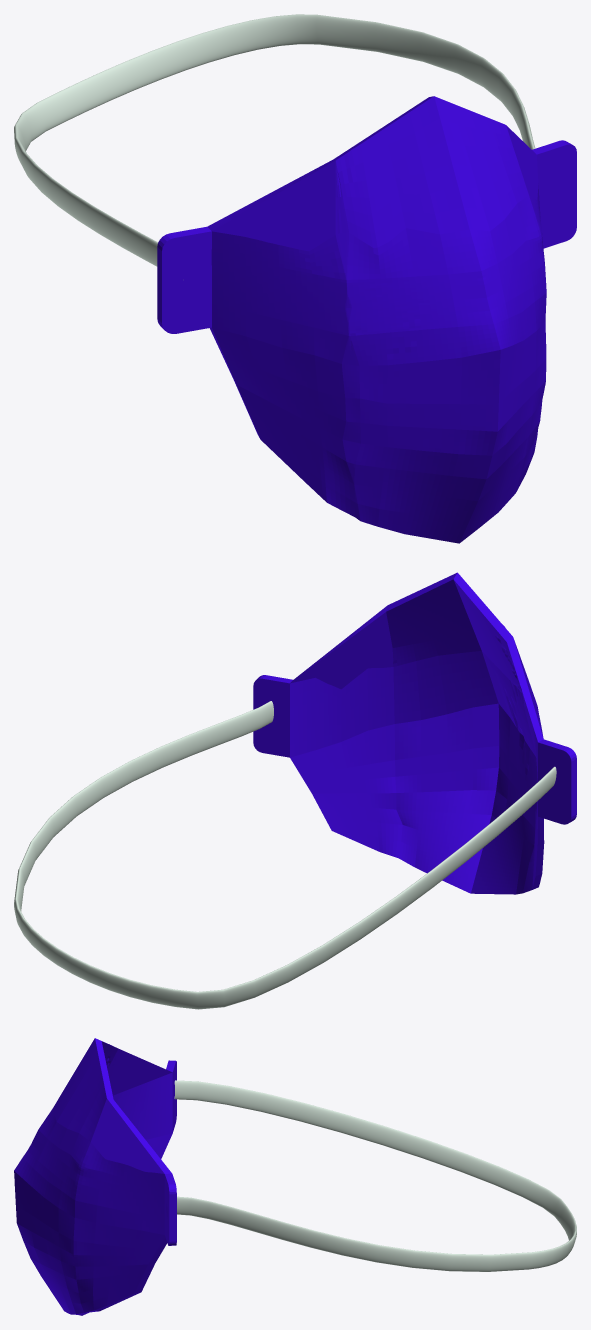
File: Mascara facial.fbx
3 renders of one model, top to bottom at view 1: azimuth 30°, elevation 25°; view 2: azimuth 150°, elevation 25°; view 3: azimuth 270°, elevation 25°, orthographic. The views are drawn at different scales.
Visible parts, largest first — view 1: Cube, Bézier - Curva; view 2: Cube, Bézier - Curva; view 3: Cube, Bézier - Curva.
Part boxes in pixels (x1,y1,x2,y2): Cube: (157,96,576,543); Bézier - Curva: (14,14,535,266); Cube: (253,572,576,894); Bézier - Curva: (14,701,556,1009); Cube: (14,1038,176,1315); Bézier - Curva: (174,1080,576,1271).
Size of the model in its own units: 466 by 389 by 727.
